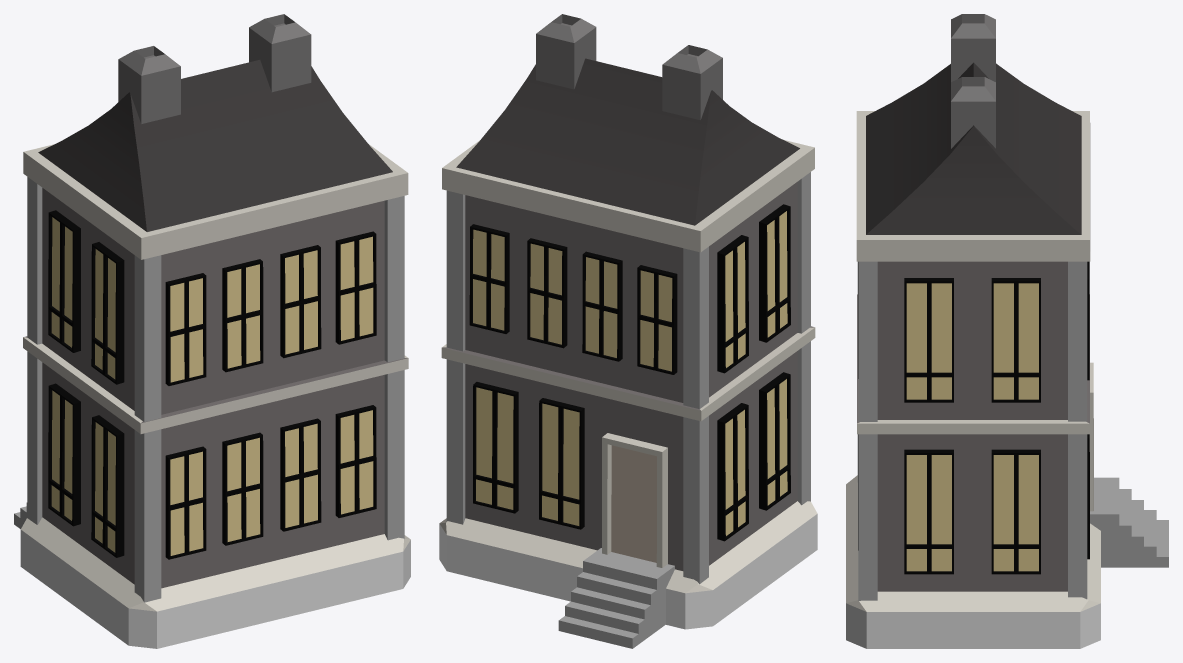
Rendered from huis.fbx.
The picture shows the model from 3 angles, left to right: view 1: azimuth 30°, elevation 25°; view 2: azimuth 150°, elevation 25°; view 3: azimuth 270°, elevation 25°; orthographic projection. The views are drawn at different scales.
Visible parts, largest first — view 1: polySurface1; view 2: polySurface1; view 3: polySurface1.
Boxes of the visible parts, bbox=[...] form: polySurface1: bbox=[14, 14, 410, 648]; polySurface1: bbox=[439, 14, 817, 648]; polySurface1: bbox=[846, 14, 1168, 648].
Bounding box in the file's own units: 1.52 × 2.75 × 1.52.
